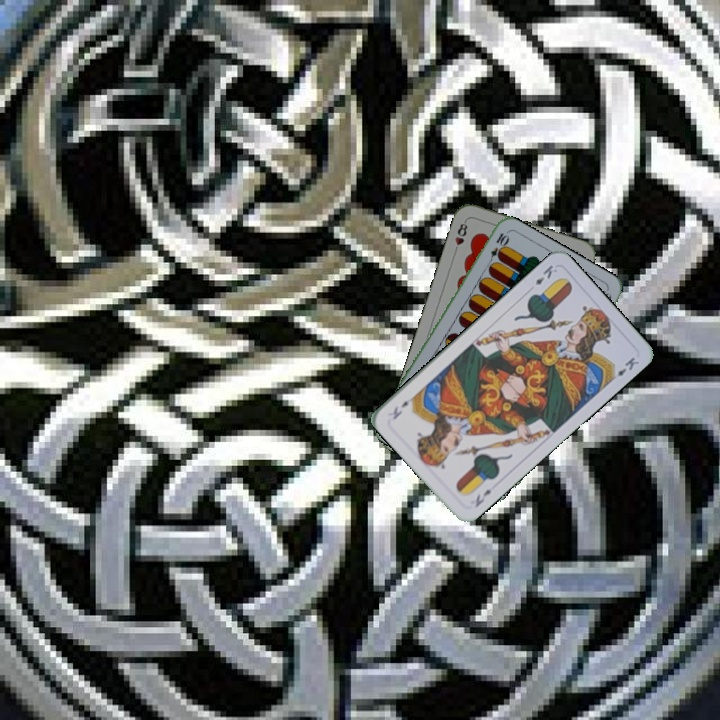E10: (484, 229, 510, 268)
EK: (525, 261, 560, 294), (471, 481, 500, 510)
H8: (450, 217, 470, 256)
